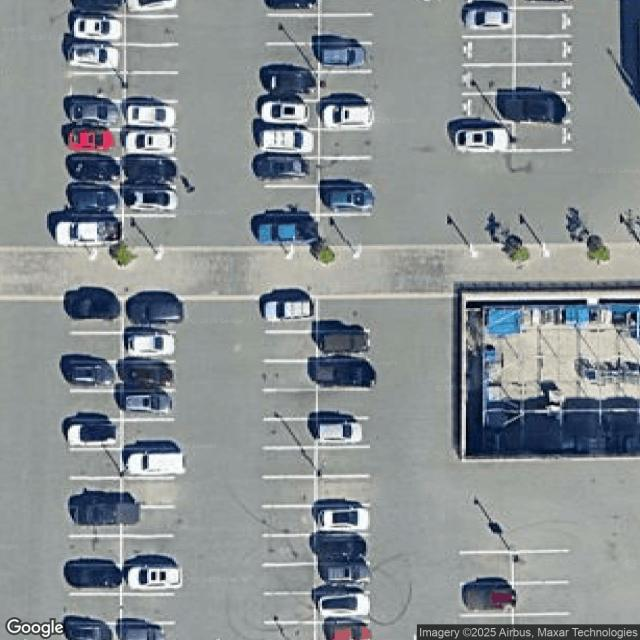car: (308, 359, 379, 388), (74, 500, 145, 528), (502, 94, 564, 121), (462, 585, 518, 612), (53, 222, 121, 244), (68, 186, 120, 214), (65, 565, 122, 590), (125, 566, 184, 590), (258, 221, 318, 244), (123, 156, 176, 182), (68, 100, 122, 125), (266, 71, 316, 98), (127, 453, 188, 475), (68, 44, 120, 69), (67, 296, 117, 322), (132, 300, 186, 324), (314, 330, 370, 353), (454, 130, 511, 152), (128, 103, 176, 129), (68, 157, 120, 181), (72, 16, 123, 40), (65, 128, 116, 152), (124, 395, 171, 421), (128, 188, 178, 212), (123, 364, 172, 388), (319, 596, 370, 619), (68, 363, 116, 387), (260, 103, 312, 125), (264, 300, 316, 322), (325, 188, 376, 210), (124, 337, 175, 359), (316, 421, 364, 444), (260, 132, 315, 152), (316, 511, 371, 531), (316, 538, 366, 560), (324, 107, 375, 128), (66, 424, 117, 445), (254, 155, 292, 183), (64, 619, 113, 640), (464, 8, 513, 28), (118, 621, 169, 640), (128, 132, 173, 153), (320, 47, 366, 67), (321, 623, 374, 640), (71, 0, 125, 14), (324, 568, 373, 581), (126, 0, 178, 12)
lot_boundary: (0, 1, 640, 640)
objects: (1, 242, 639, 299), (450, 290, 639, 461)
stall: (263, 360, 316, 391), (317, 418, 370, 449), (125, 43, 177, 74), (73, 43, 125, 74), (71, 216, 123, 247), (123, 187, 175, 218), (124, 159, 176, 190), (125, 72, 177, 103), (122, 333, 174, 364), (69, 506, 121, 537), (69, 564, 121, 595), (266, 101, 318, 132), (319, 42, 371, 73), (267, 43, 319, 74), (320, 13, 372, 44), (267, 14, 319, 45), (265, 215, 317, 246), (263, 477, 315, 508), (263, 301, 315, 332), (316, 592, 368, 623), (263, 593, 315, 624), (317, 563, 369, 594), (263, 564, 315, 595), (263, 506, 315, 537), (461, 584, 513, 615), (515, 92, 567, 123), (462, 121, 514, 152), (516, 64, 568, 95), (462, 7, 514, 38), (70, 159, 123, 189), (122, 419, 175, 449), (69, 418, 122, 448), (121, 449, 174, 479), (121, 594, 174, 624), (68, 595, 121, 625), (319, 71, 372, 101), (318, 214, 371, 244), (317, 186, 370, 216), (266, 187, 319, 217), (265, 130, 318, 160), (264, 390, 317, 420), (316, 301, 369, 331), (315, 506, 368, 536), (460, 554, 513, 584), (70, 129, 122, 159), (124, 130, 176, 160), (72, 101, 124, 131), (125, 101, 177, 131), (73, 73, 125, 103), (70, 187, 122, 217), (71, 333, 123, 363), (70, 303, 122, 333), (123, 303, 175, 333), (72, 14, 124, 44), (125, 16, 177, 46), (123, 216, 175, 246), (122, 390, 174, 420), (71, 391, 123, 421), (124, 363, 176, 393), (69, 362, 121, 392), (121, 507, 173, 537), (122, 478, 174, 508), (70, 478, 122, 508), (70, 449, 122, 479), (121, 565, 173, 595), (121, 537, 173, 567), (69, 537, 121, 567), (318, 100, 370, 130), (267, 72, 319, 102), (319, 157, 371, 187), (266, 158, 318, 188), (320, 129, 372, 159), (317, 389, 369, 419), (317, 360, 369, 390), (318, 331, 370, 361), (264, 331, 316, 361), (316, 447, 368, 477), (264, 448, 316, 478), (264, 419, 316, 449), (315, 534, 367, 564), (263, 536, 315, 566), (316, 475, 368, 505), (514, 553, 566, 583), (513, 584, 565, 614), (462, 65, 514, 95), (463, 94, 515, 124), (514, 121, 566, 151), (515, 35, 567, 65), (462, 36, 514, 66), (516, 8, 568, 38), (314, 623, 371, 640), (119, 622, 174, 639), (125, 0, 177, 17), (264, 622, 316, 639), (70, 0, 126, 15), (66, 625, 120, 639), (321, 624, 325, 640)
